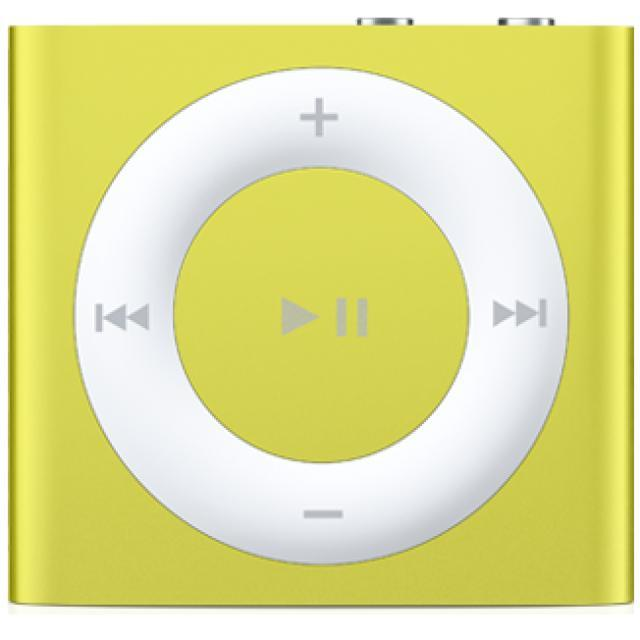Music-Player: (0, 17, 640, 613)
